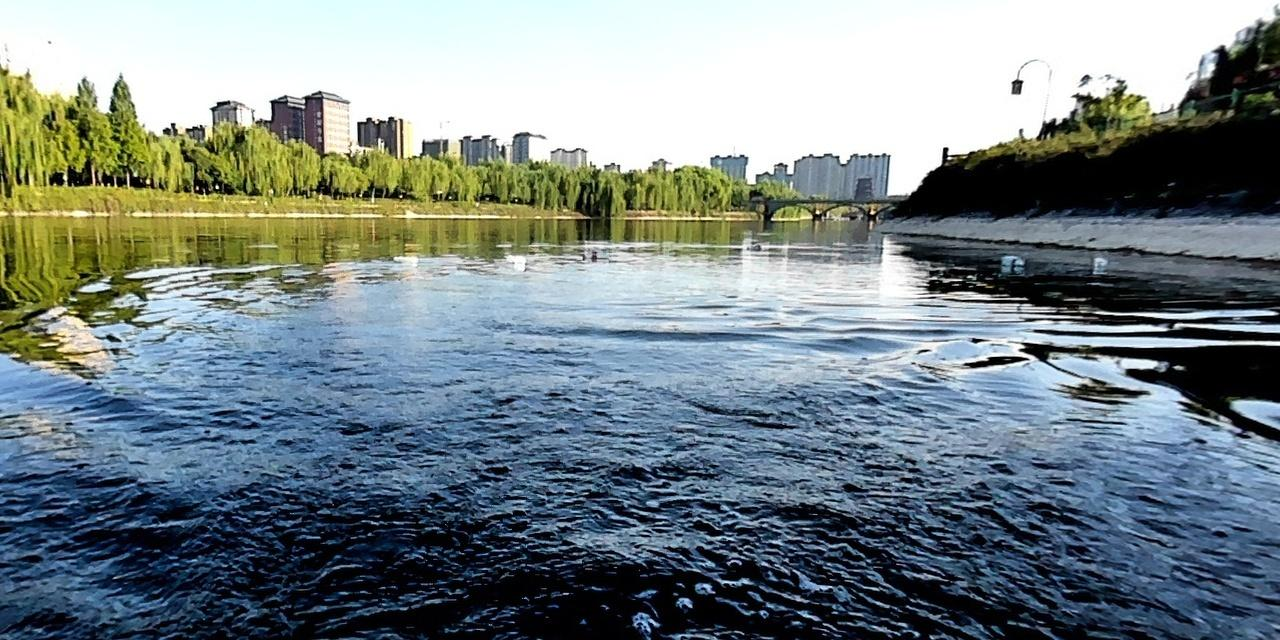bottle: (997, 252, 1027, 267), (579, 247, 610, 261)
